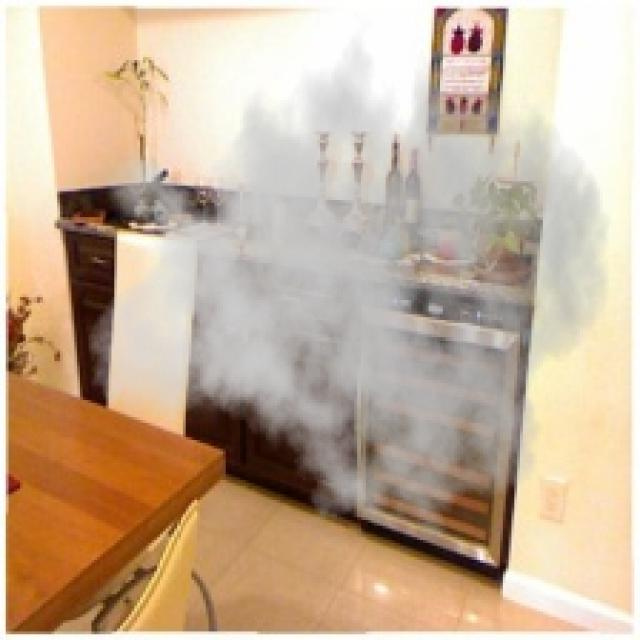smoke: (86, 9, 611, 554)
